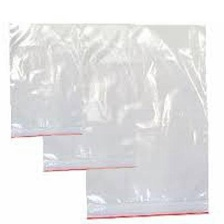plastic_bag: (81, 21, 210, 222), (40, 18, 143, 176), (3, 20, 88, 142)
